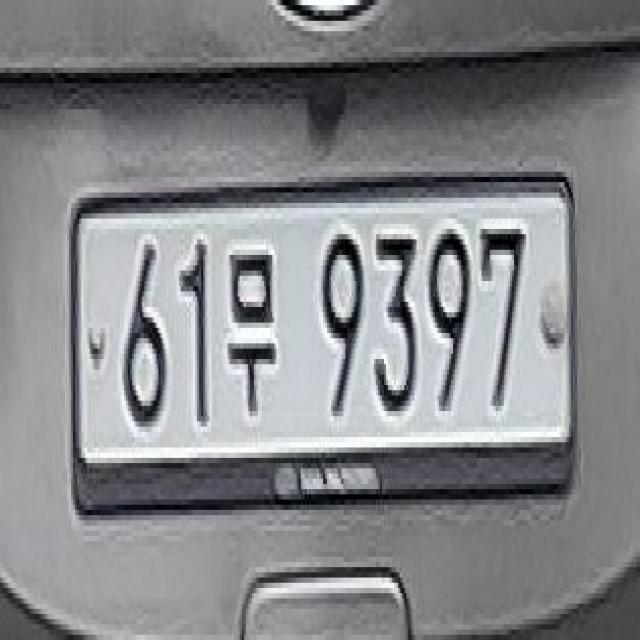1: (177, 237, 220, 435)
3: (371, 218, 421, 416)
6: (118, 237, 170, 431)
7: (474, 215, 530, 408)
9: (314, 218, 368, 420), (426, 219, 474, 411)
license_plate: (65, 164, 582, 509)
mu: (226, 233, 280, 428)
